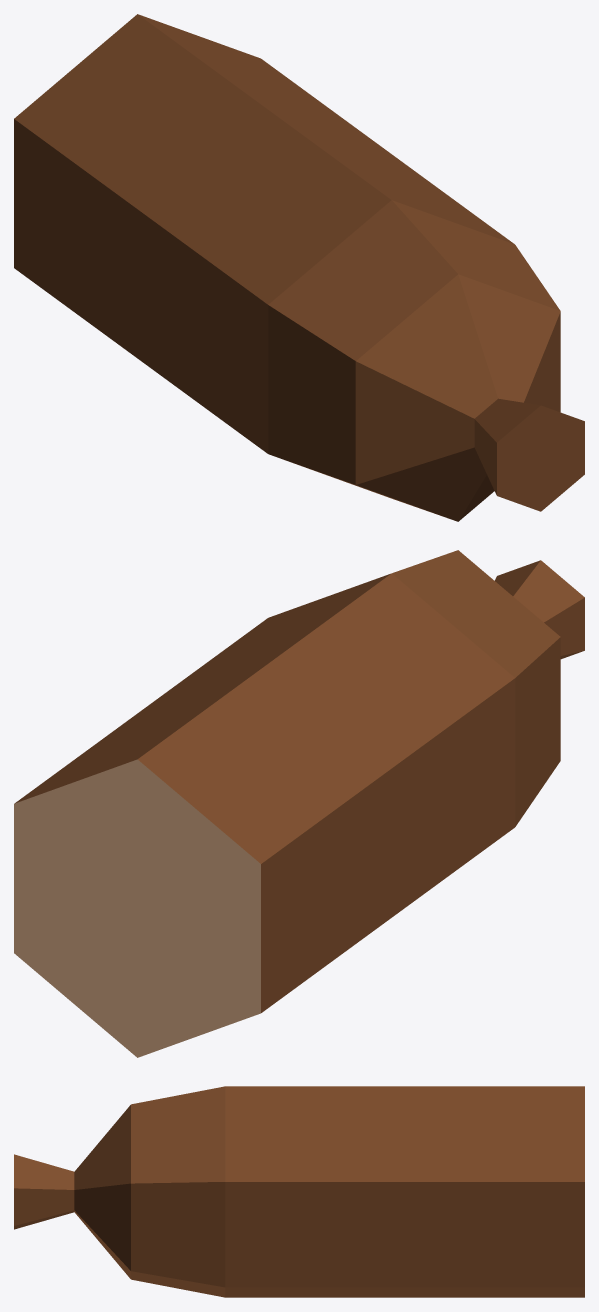
File: HotDot.glb
The picture shows the model from 3 angles, top to bottom: view 1: azimuth 30°, elevation 25°; view 2: azimuth 150°, elevation 25°; view 3: azimuth 270°, elevation 25°; orthographic projection. The views are drawn at different scales.
Visible parts, largest first — view 1: HotDot; view 2: HotDot; view 3: HotDot.
Boxes of the visible parts, x1,y1,x2,y2 form: HotDot: [14, 14, 584, 521]; HotDot: [14, 550, 584, 1057]; HotDot: [14, 1086, 584, 1297].
Bounding box in the file's own units: 0.021 × 0.0242 × 0.0593.
1 material, 1 textured.
